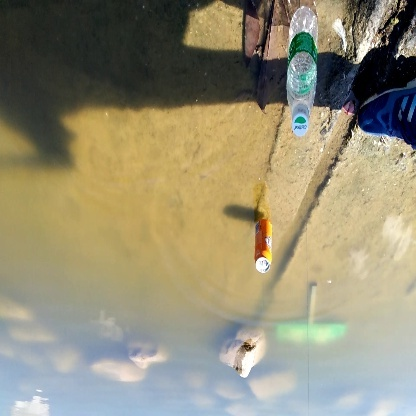bottle: (250, 213, 279, 278)
